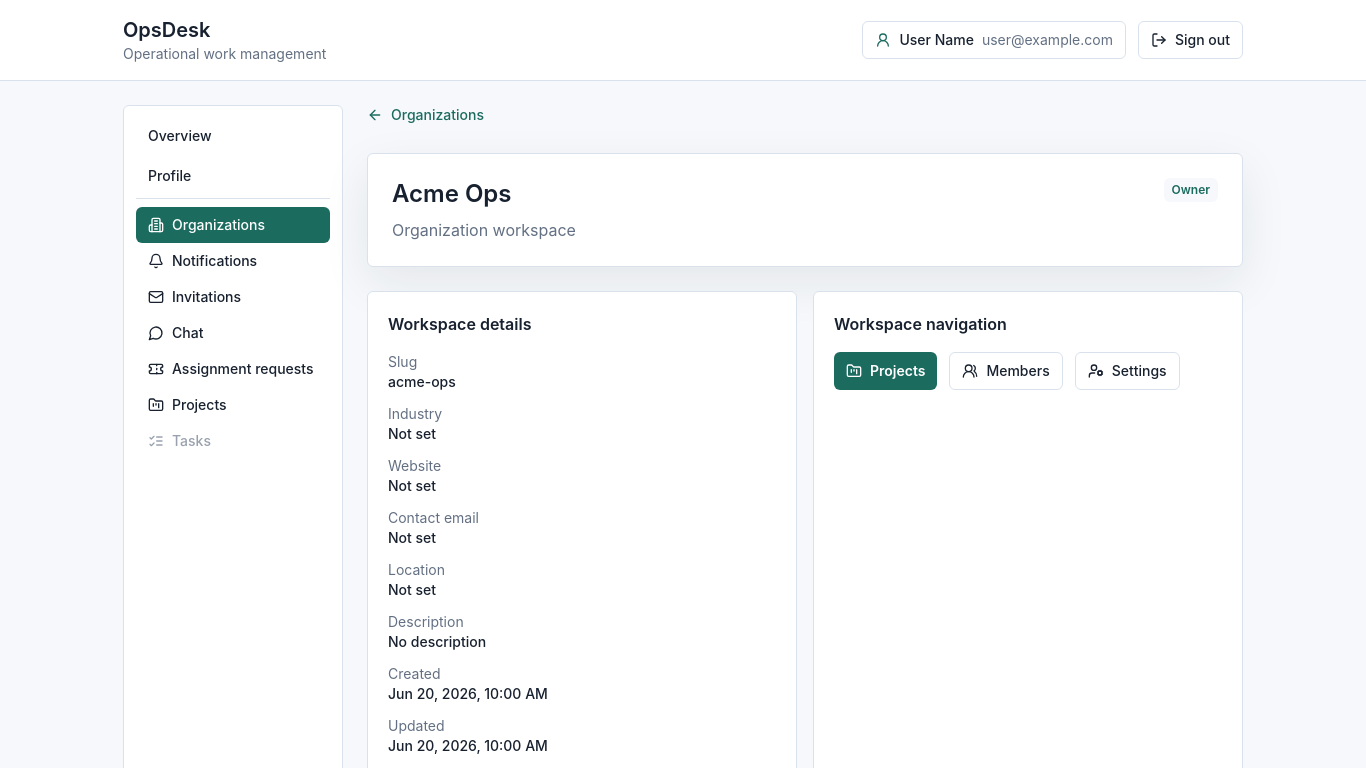
Test case: SPEC-104 frontend app shell and auth UI › keeps Organizations active by itself after opening the nav item
The width and height of the screenshot is (1366, 768).
Click the link "Organizations" below "Profile".
click(233, 225)  # box [136, 207, 330, 243]
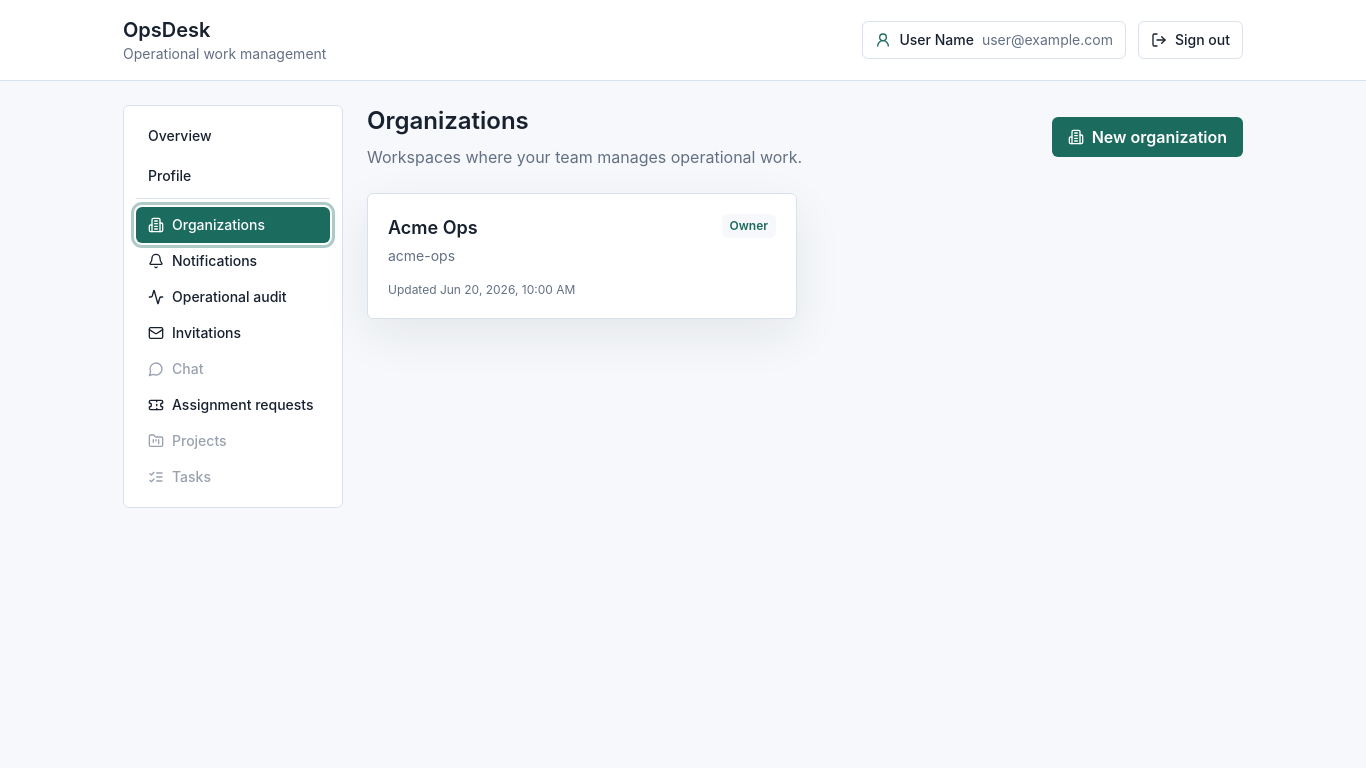
Expected: the button "Projects" is disabled, [136, 423, 330, 459]
Expected: the heading "Organizations" is shown, [367, 106, 529, 135]
